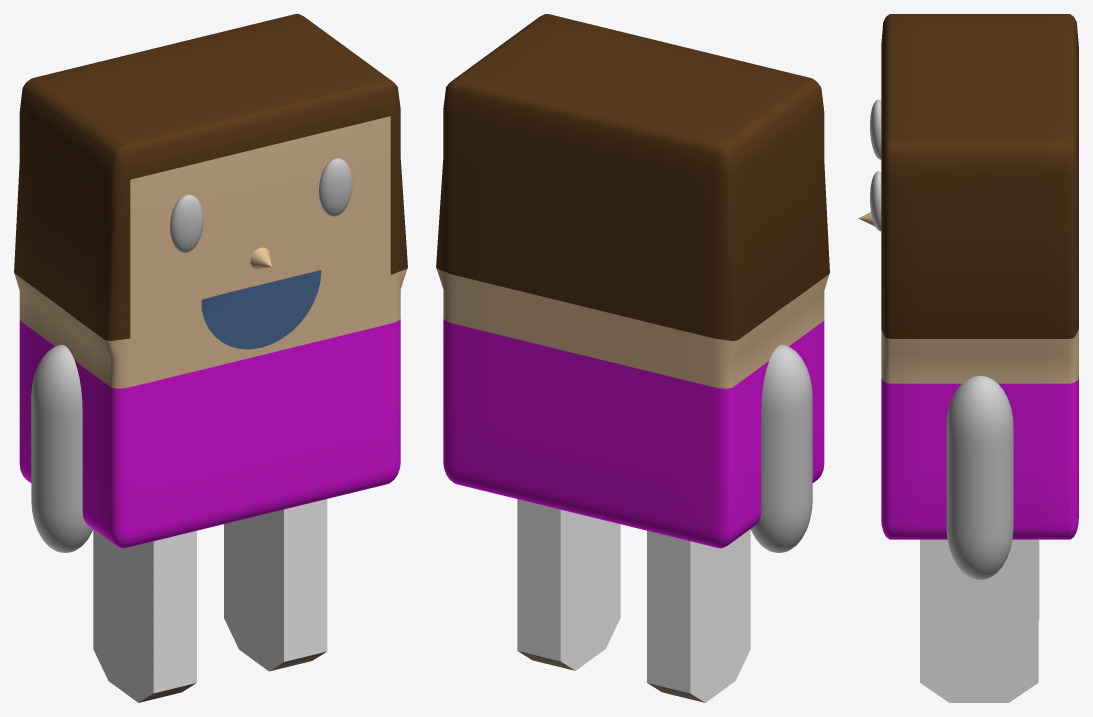
File: Girl.obj
3 renders of one model, left to right at view 1: azimuth 30°, elevation 25°; view 2: azimuth 150°, elevation 25°; view 3: azimuth 270°, elevation 25°, orthographic.
Visible parts, largest first — view 1: girl, rightarm, mouth, olho_esq, olho_dir; view 2: girl, rightarm; view 3: girl, leftarm, olho_dir, olho_esq.
Part boxes in pixels (<box>): girl: <box>14,14,407,702</box>; rightarm: <box>31,344,93,552</box>; mouth: <box>201,270,321,349</box>; olho_esq: <box>319,158,352,216</box>; olho_dir: <box>170,194,203,252</box>; girl: <box>436,14,829,702</box>; rightarm: <box>750,344,812,552</box>; girl: <box>881,14,1078,702</box>; leftarm: <box>946,375,1013,579</box>; olho_dir: <box>870,99,881,159</box>; olho_esq: <box>870,171,881,231</box>.
Bounding box in the file's own units: 178 × 288 × 98.89.
